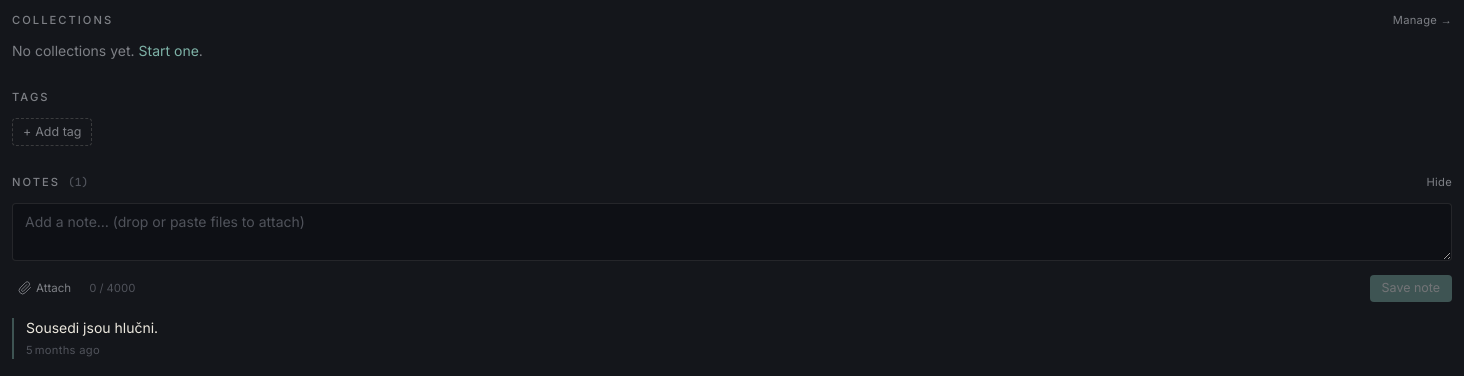
<CurationBlock> control names › names the tag find-or-create box
What coordinates should you click on to do the following:
click the button "+ Add tag"
I would click on:
 (52, 132)
Its box is [12,118,92,146].
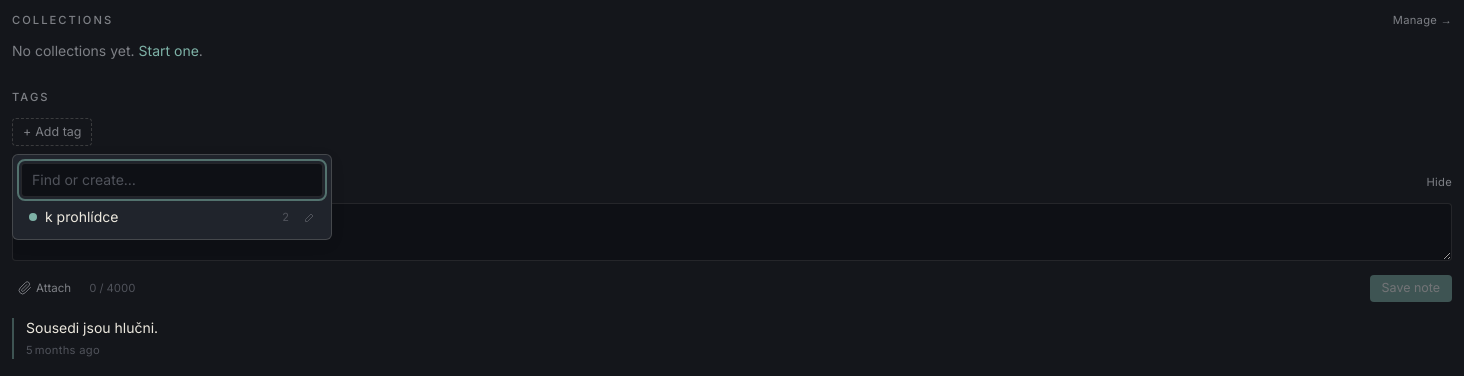
Expected: the field named "Find or create a tag" is shown, [21,163,323,197]
